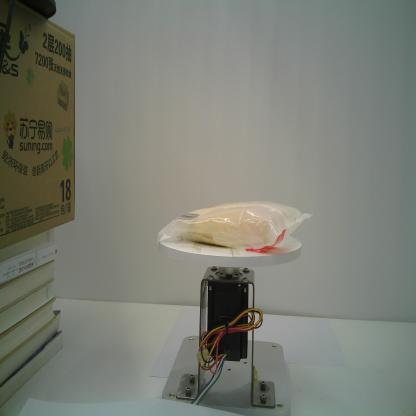Dessert: (157, 199, 314, 253)
